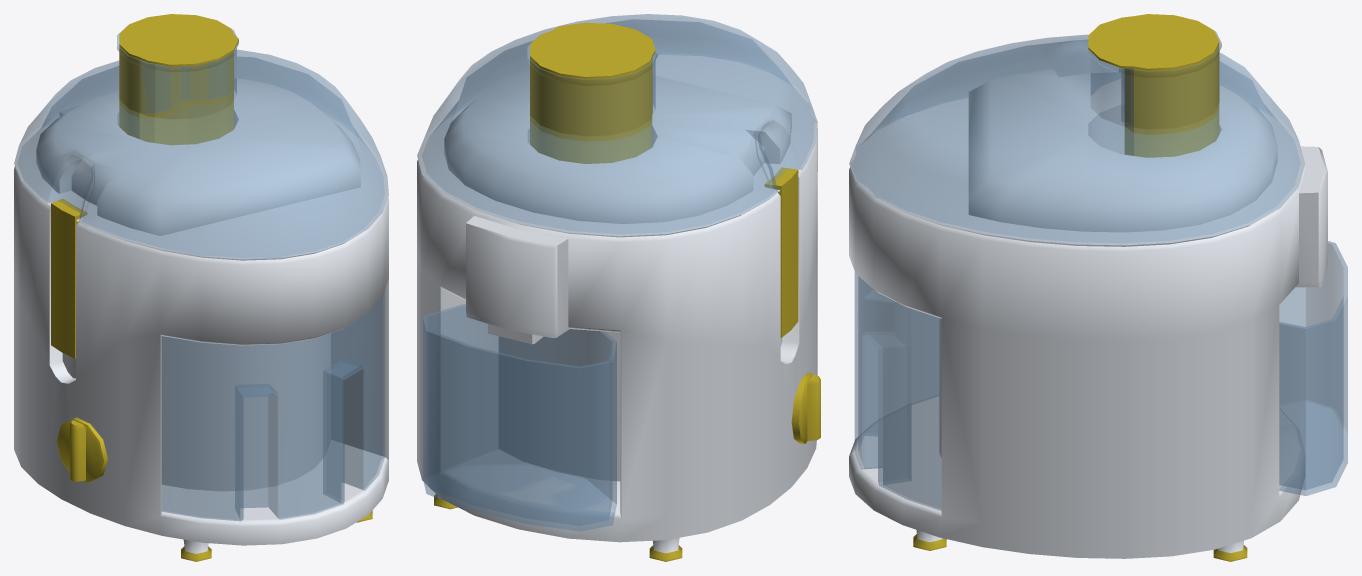
The model's file is JYZA511.FBX.
The picture shows the model from 3 angles, left to right: view 1: azimuth 30°, elevation 25°; view 2: azimuth 150°, elevation 25°; view 3: azimuth 270°, elevation 25°; orthographic projection. The views are drawn at different scales.
Visible parts, largest first — view 1: JYZA511; view 2: JYZA511; view 3: JYZA511.
Boxes of the visible parts, <box> form: JYZA511: <box>14,14,388,561</box>; JYZA511: <box>417,14,820,561</box>; JYZA511: <box>849,14,1347,561</box>.
Size of the model in its own units: 29.54 by 37.21 by 37.89.
